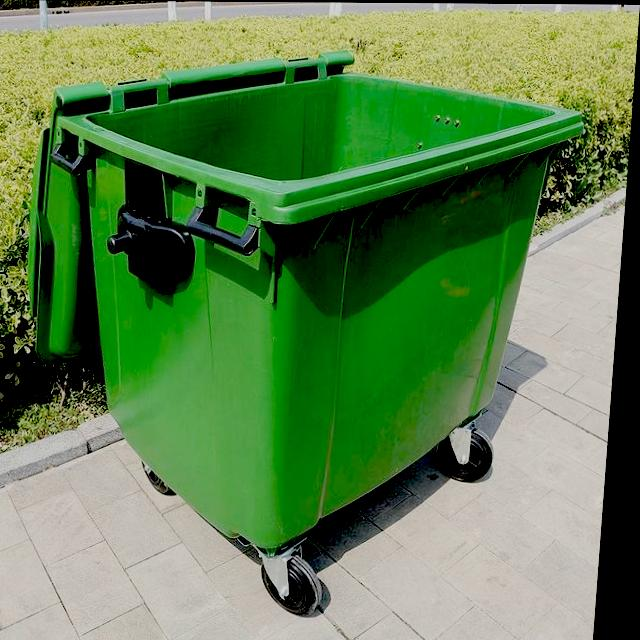Trash_Can_Empty: (35, 67, 591, 550)
